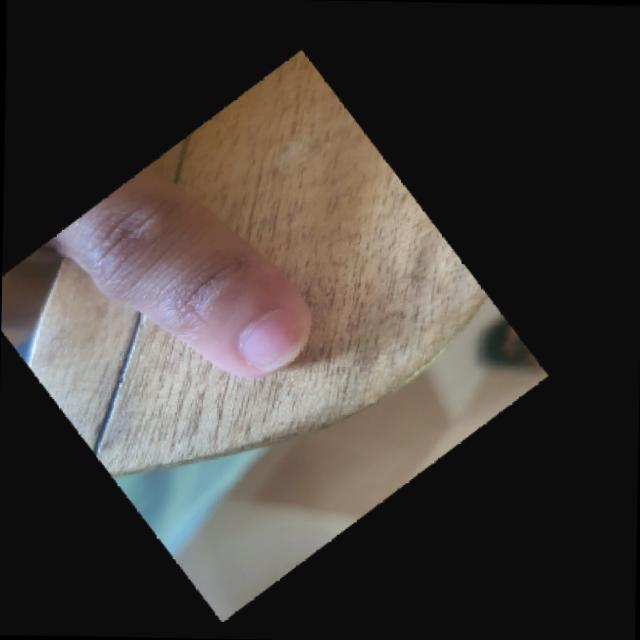Nail: (241, 311, 305, 370)
